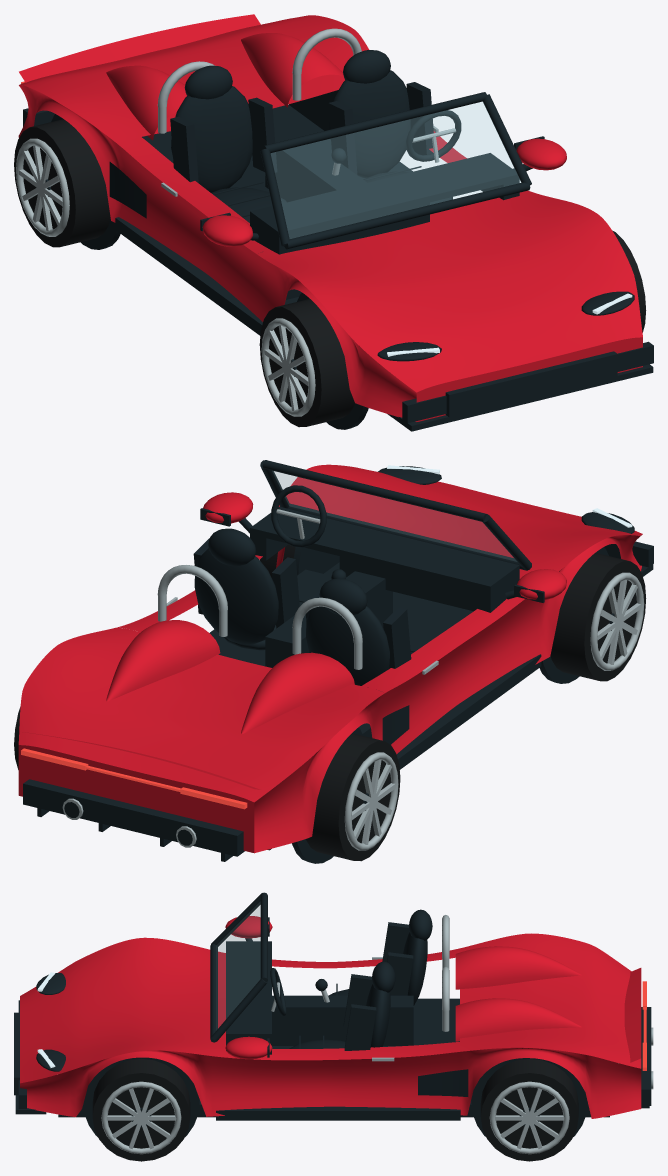
File: candidate.inspection.glb
3 renders of one model, top to bottom at view 1: azimuth 30°, elevation 25°; view 2: azimuth 150°, elevation 25°; view 3: azimuth 270°, elevation 25°, orthographic. The views are drawn at different scales.
Parts seen in each view (by area): view 1: roadster/paint, roadster/dark, roadster/glass, open-roadster, dashboard-preserved-passenger-and-center, driver-seat-back-040, dashboard-driver-clearance-header, roadster/metal, driver-seat-headrest-041, driver-seat-bolster-042, driver-seat-bolster-043, steering-rim (+1 smaller); view 2: roadster/paint, roadster/dark, open-roadster, dashboard-preserved-passenger-and-center, roadster/glass, driver-seat-back-040, roadster/metal, dashboard-driver-clearance-header, roadster/tail, driver-seat-headrest-041, driver-seat-bolster-042, steering-rim (+1 smaller); view 3: roadster/paint, roadster/dark, open-roadster, roadster/glass, dashboard-preserved-passenger-and-center, roadster/metal, driver-seat-bolster-043, dashboard-driver-clearance-header, driver-seat-back-040, driver-seat-bolster-042, driver-seat-headrest-041, dashboard-preserved-outboard (+3 smaller).
Part boxes in pixels (left/top/right/bottom): roadster/paint: left=18, top=14, right=642, bottom=421; roadster/dark: left=23, top=65, right=653, bottom=431; roadster/glass: left=271, top=102, right=520, bottom=238; open-roadster: left=14, top=119, right=646, bottom=427; dashboard-preserved-passenger-and-center: left=250, top=174, right=429, bottom=254; driver-seat-back-040: left=329, top=70, right=410, bottom=177; dashboard-driver-clearance-header: left=401, top=156, right=503, bottom=202; roadster/metal: left=157, top=28, right=438, bottom=196; driver-seat-headrest-041: left=343, top=50, right=390, bottom=83; driver-seat-bolster-042: left=328, top=101, right=357, bottom=174; driver-seat-bolster-043: left=406, top=82, right=433, bottom=155; steering-rim: left=406, top=110, right=461, bottom=161; roadster/paint: left=18, top=464, right=642, bottom=853; roadster/dark: left=23, top=460, right=653, bottom=863; open-roadster: left=14, top=544, right=646, bottom=861; dashboard-preserved-passenger-and-center: left=339, top=528, right=519, bottom=612; roadster/glass: left=272, top=471, right=516, bottom=561; driver-seat-back-040: left=194, top=548, right=278, bottom=644; roadster/metal: left=62, top=565, right=438, bottom=847; dashboard-driver-clearance-header: left=266, top=510, right=368, bottom=555; roadster/tail: left=21, top=748, right=247, bottom=809; driver-seat-headrest-041: left=208, top=528, right=256, bottom=566; driver-seat-bolster-042: left=271, top=557, right=299, bottom=628; steering-rim: left=271, top=485, right=326, bottom=547; roadster/paint: left=20, top=915, right=641, bottom=1118; roadster/dark: left=14, top=892, right=651, bottom=1137; open-roadster: left=92, top=1058, right=578, bottom=1161; roadster/glass: left=216, top=902, right=260, bottom=1029; dashboard-preserved-passenger-and-center: left=226, top=941, right=271, bottom=999; roadster/metal: left=321, top=915, right=653, bottom=1089; driver-seat-bolster-043: left=344, top=1004, right=376, bottom=1050; dashboard-driver-clearance-header: left=226, top=999, right=271, bottom=1027; driver-seat-back-040: left=366, top=984, right=390, bottom=1047; driver-seat-bolster-042: left=343, top=974, right=372, bottom=1027; driver-seat-headrest-041: left=372, top=961, right=395, bottom=992; dashboard-preserved-outboard: left=226, top=1027, right=271, bottom=1054.
Size of the model in its own units: 2.32 by 1.36 by 4.58.
